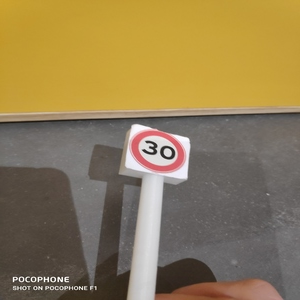30-bord: (129, 126, 187, 174)
